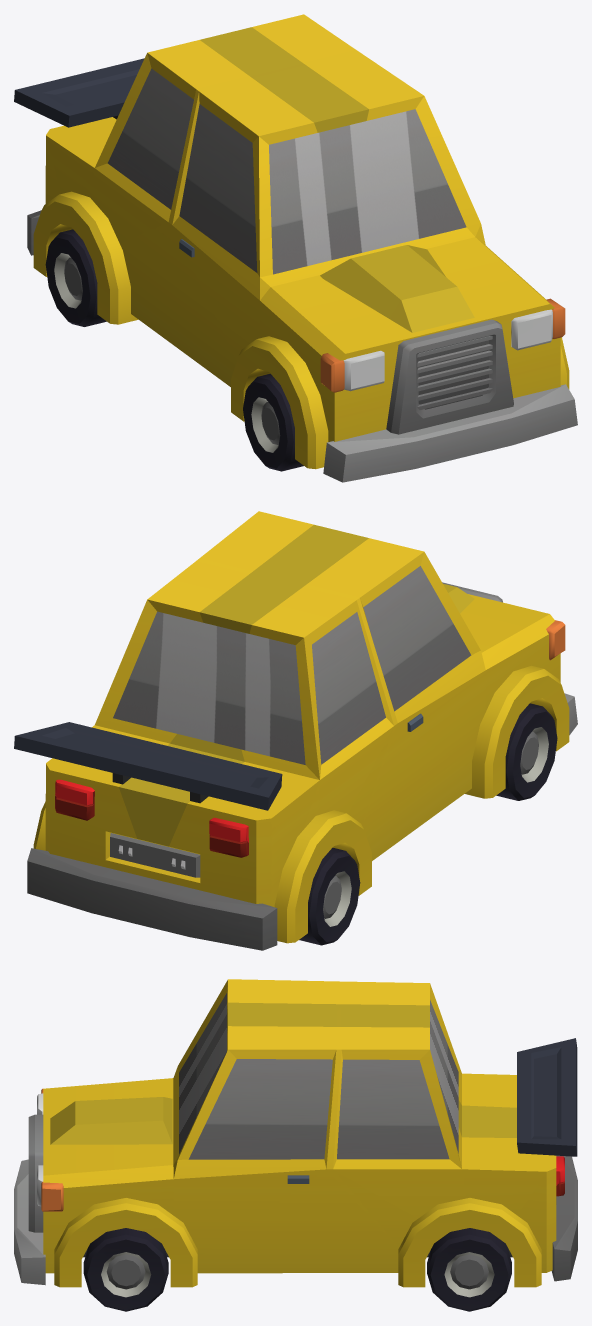
Rendered from SportCar_20.glb.
3 renders of one model, top to bottom at view 1: azimuth 30°, elevation 25°; view 2: azimuth 150°, elevation 25°; view 3: azimuth 270°, elevation 25°, orthographic. The views are drawn at different scales.
Parts seen in each view (by area): view 1: SportCar_20, Wheel_fr, Wheel_br; view 2: SportCar_20, Wheel_br, Wheel_fr; view 3: SportCar_20, Wheel_fl, Wheel_bl.
Part boxes in pixels (box(x1,y1,x2,y2)): SportCar_20: box(14, 14, 577, 482); Wheel_fr: box(243, 373, 303, 471); Wheel_br: box(45, 229, 106, 326); SportCar_20: box(14, 511, 577, 950); Wheel_br: box(299, 847, 360, 945); Wheel_fr: box(496, 703, 557, 800); SportCar_20: box(14, 979, 577, 1287); Wheel_fl: box(83, 1228, 168, 1311); Wheel_bl: box(427, 1228, 511, 1311).
Bounding box in the file's own units: 1.12 × 1.1 × 2.33.
7 materials, 7 textured.
